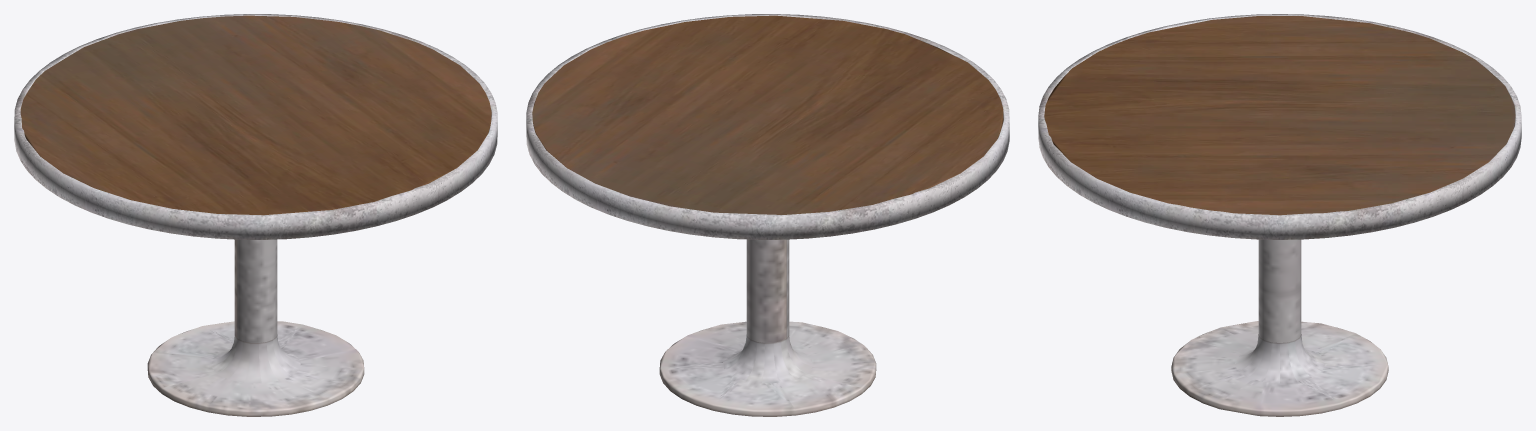
File: table_lab_140.glb
3 views of the same model, side by side, from view 1: azimuth 30°, elevation 25°; view 2: azimuth 150°, elevation 25°; view 3: azimuth 270°, elevation 25° (orthographic).
Parts seen in each view (by area): view 1: table_lab_140; view 2: table_lab_140; view 3: table_lab_140.
Part boxes in pixels (x1=…): table_lab_140: x1=14, y1=14, x2=497, y2=416; table_lab_140: x1=526, y1=14, x2=1009, y2=416; table_lab_140: x1=1038, y1=14, x2=1521, y2=416.
Bounding box in the file's own units: 1.39 × 0.8145 × 1.39.
1 material, 1 textured.
